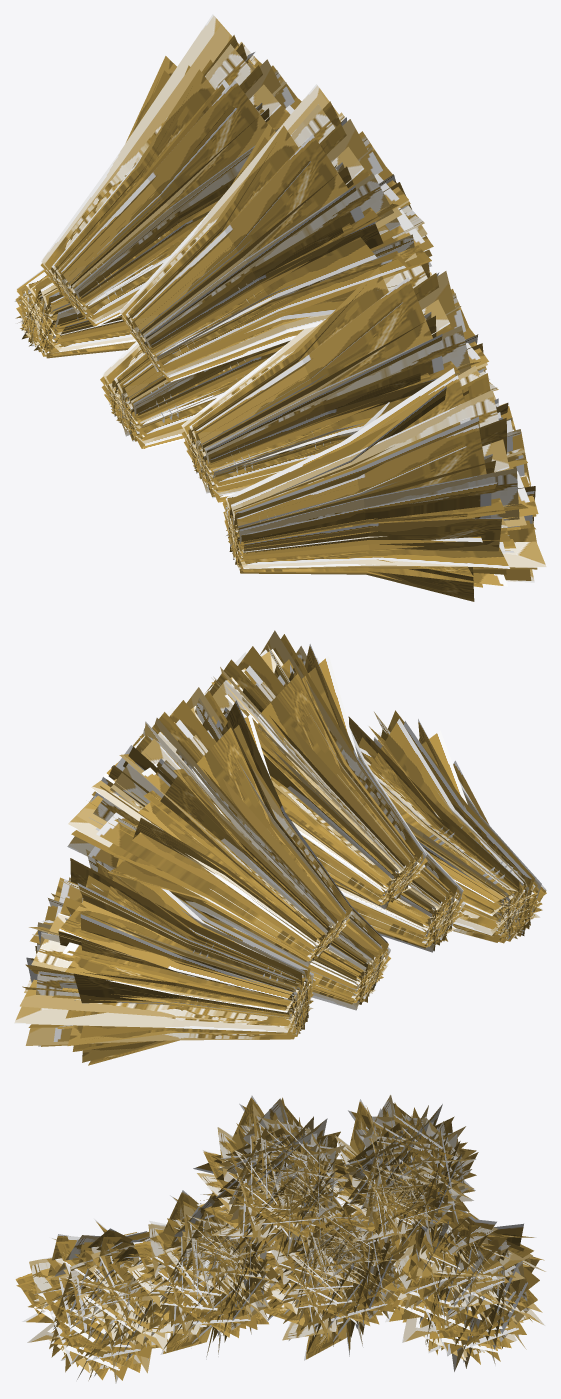
File: MS_WindmillWheat6.fbx
The picture shows the model from 3 angles, top to bottom: view 1: azimuth 30°, elevation 25°; view 2: azimuth 150°, elevation 25°; view 3: azimuth 270°, elevation 25°; orthographic projection. The views are drawn at different scales.
Parts seen in each view (by area): view 1: Plane.004; view 2: Plane.004; view 3: Plane.004.
Boxes of the visible parts, bbox=[...] form: Plane.004: bbox=[14, 14, 546, 601]; Plane.004: bbox=[14, 630, 546, 1065]; Plane.004: bbox=[14, 1095, 545, 1383].
Bounding box in the file's own units: 856 × 1048 × 1886.
